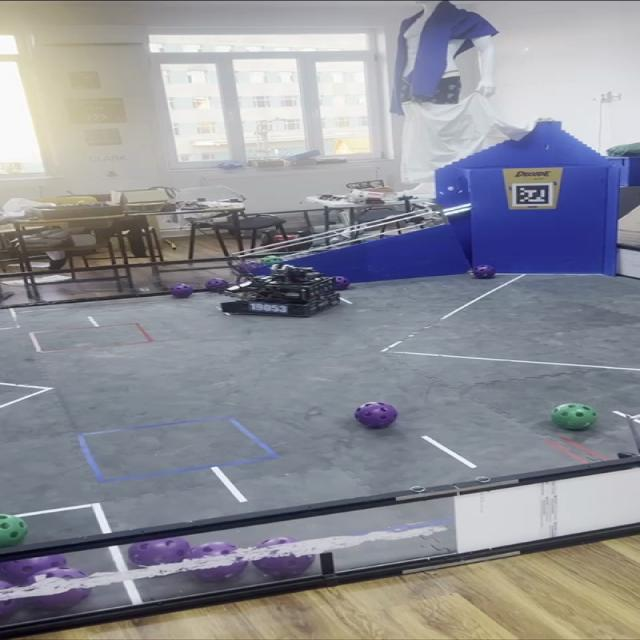artifact_green: (551, 404, 597, 430), (0, 515, 27, 547), (260, 255, 282, 266)
artifact_purple: (0, 554, 66, 585), (128, 538, 190, 566), (254, 554, 314, 577), (30, 589, 91, 610), (194, 560, 247, 581), (355, 403, 398, 428), (0, 599, 21, 619), (235, 261, 262, 275), (206, 279, 229, 293), (170, 284, 193, 298), (472, 265, 495, 278), (334, 276, 350, 290)
